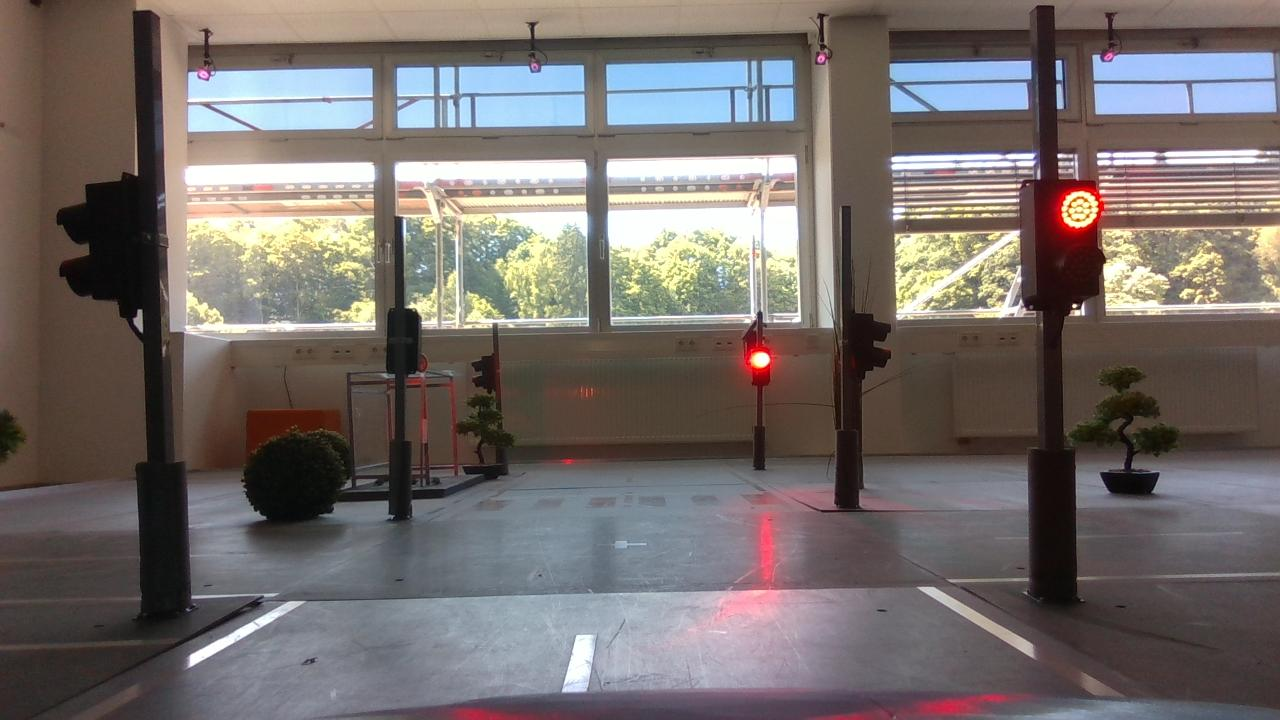traffic_light_red: (1013, 171, 1114, 317)
